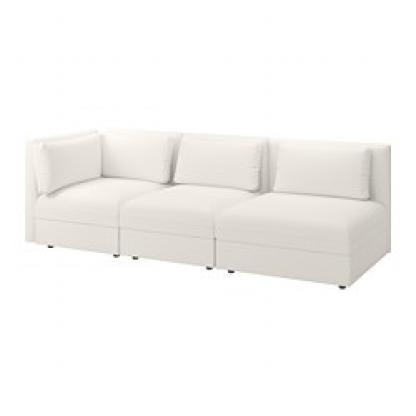Sofa: (17, 97, 396, 291)
